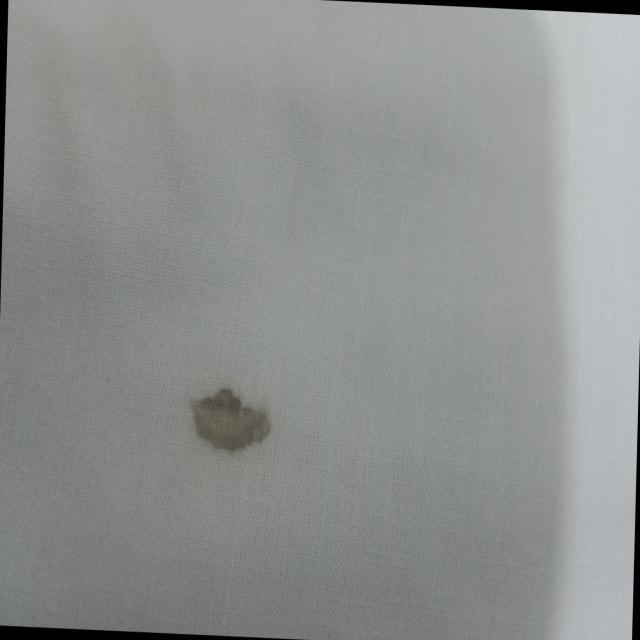stain: (178, 376, 282, 467)
